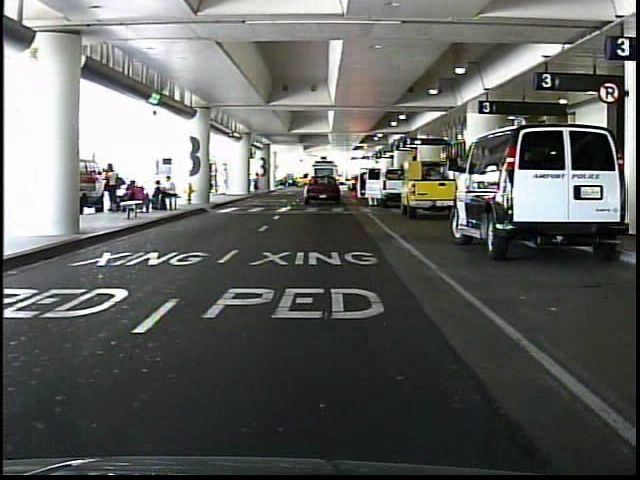person: (253, 169, 265, 193)
